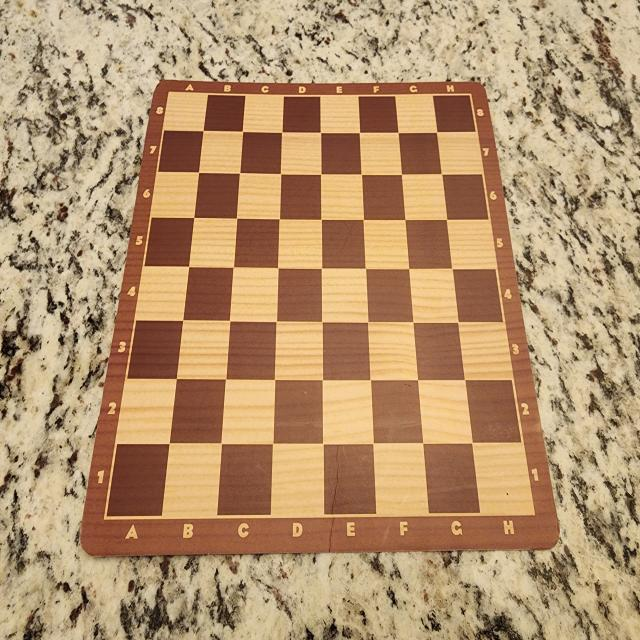Bottom-Left: (110, 445, 166, 516)
Bottom-Right: (474, 441, 536, 517)
Top-Left: (169, 92, 203, 132)
Top-Right: (433, 95, 476, 132)
